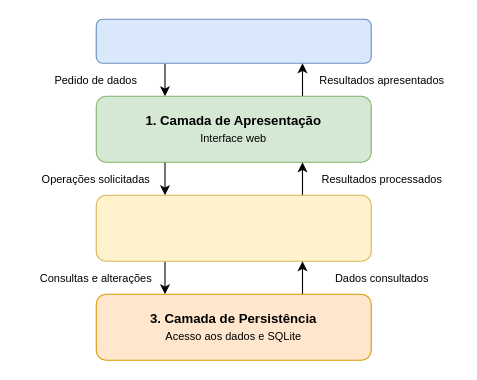
Image size: 477x380. Some labels were removed from this diagram. Each missing label, with the centre of its shape:
2. Camada de Lógica de Negócio Python: validações e cálculos financeiros: the point at 233,227
Utilizador: the point at 233,40
